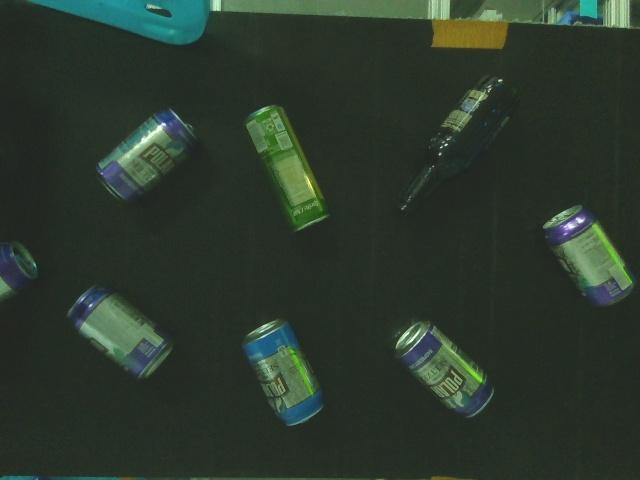glass: (395, 70, 520, 220)
metal: (244, 100, 332, 236), (388, 316, 498, 424), (66, 279, 176, 385), (93, 106, 204, 206), (539, 202, 637, 312), (241, 314, 330, 430), (0, 235, 41, 309)
